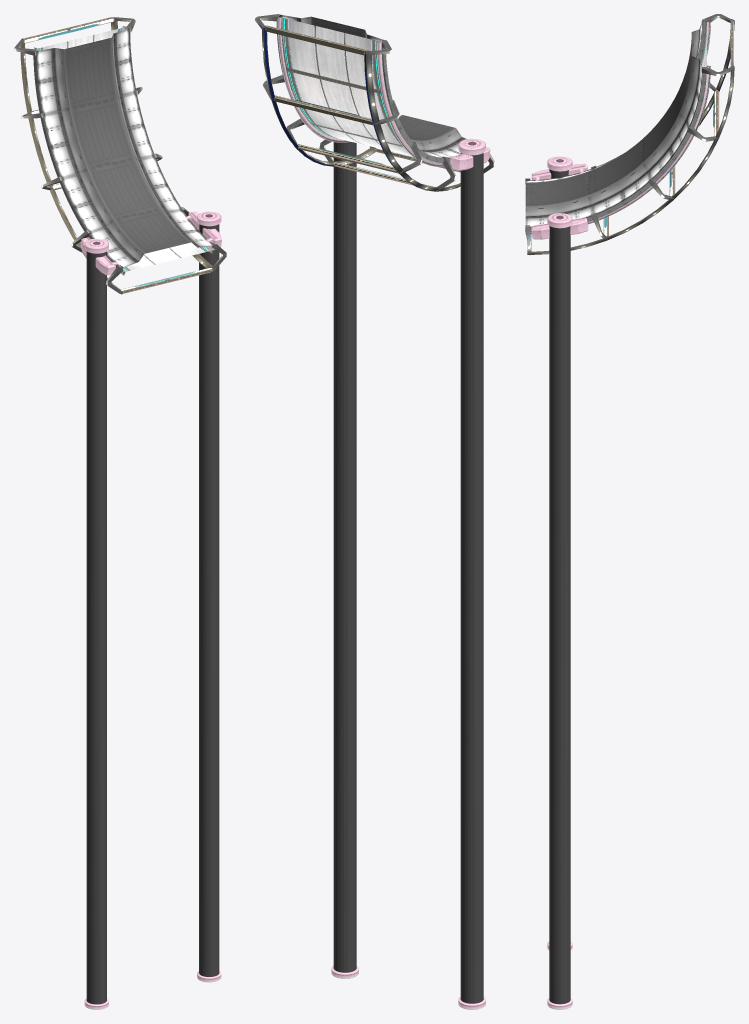
Rendered from T41 - Magnetic.fbx.
3 views of the same model, side by side, from view 1: azimuth 30°, elevation 25°; view 2: azimuth 150°, elevation 25°; view 3: azimuth 270°, elevation 25° (orthographic). The views are drawn at different scales.
Parts seen in each view (by area): view 1: standard_bridge4, support_pylon_1, support_pylon, mag_cage5, straight_road19; view 2: support_pylon_1, support_pylon, straight_road19, mag_cage5, standard_bridge4, wall5, magnetic_road_lines; view 3: support_pylon, standard_bridge4, mag_cage5, wall5, support_hinge_base.
Boxes of the visible parts, box(x1,y1,x2,y2) form: standard_bridge4: box(33, 27, 215, 272); support_pylon_1: box(86, 251, 106, 1004); support_pylon: box(199, 224, 219, 976); mag_cage5: box(14, 17, 226, 294); straight_road19: box(37, 27, 210, 271); support_pylon_1: box(460, 153, 483, 1003); support_pylon: box(333, 141, 356, 972); straight_road19: box(281, 17, 412, 156); mag_cage5: box(255, 14, 494, 191); standard_bridge4: box(276, 15, 467, 163); wall5: box(277, 16, 444, 166); magnetic_road_lines: box(293, 25, 400, 151); support_pylon: box(549, 226, 570, 1004); standard_bridge4: box(525, 21, 706, 231); mag_cage5: box(525, 14, 734, 255); wall5: box(525, 21, 710, 234); support_hinge_base: box(531, 217, 588, 239).
Bounding box in the file's own units: 6334 × 40986 × 8392.
